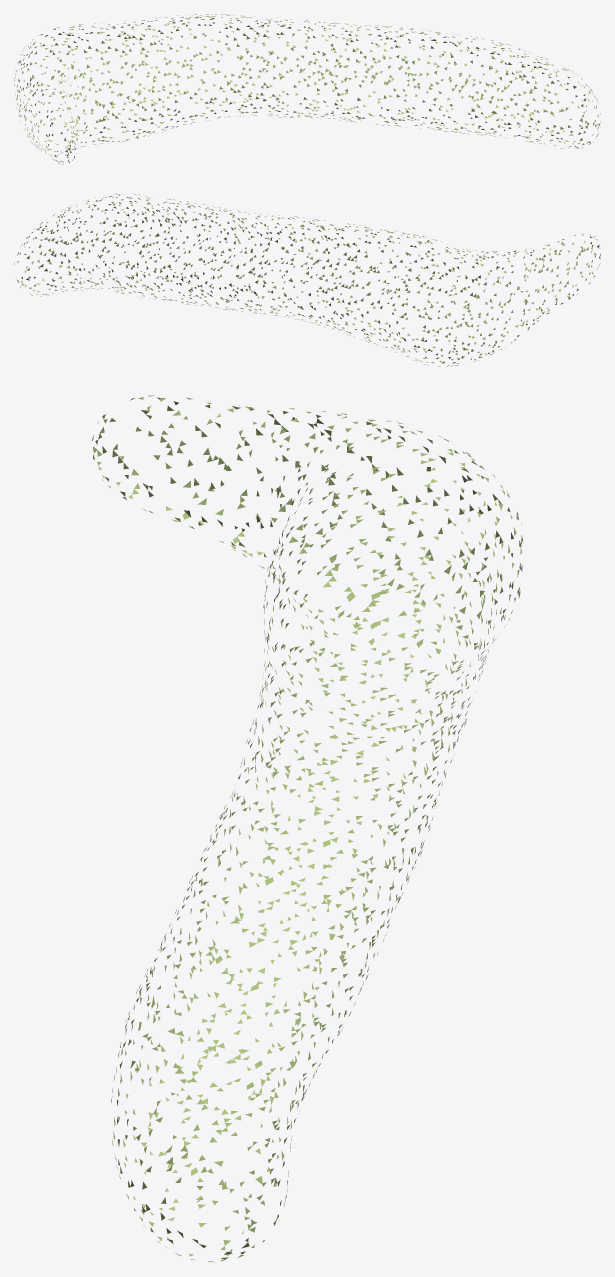
File: morph_011.glb
The picture shows the model from 3 angles, top to bottom: view 1: azimuth 30°, elevation 25°; view 2: azimuth 150°, elevation 25°; view 3: azimuth 270°, elevation 25°; orthographic projection. The views are drawn at different scales.
Size of the model in its own units: 117 by 37.28 by 39.28.
